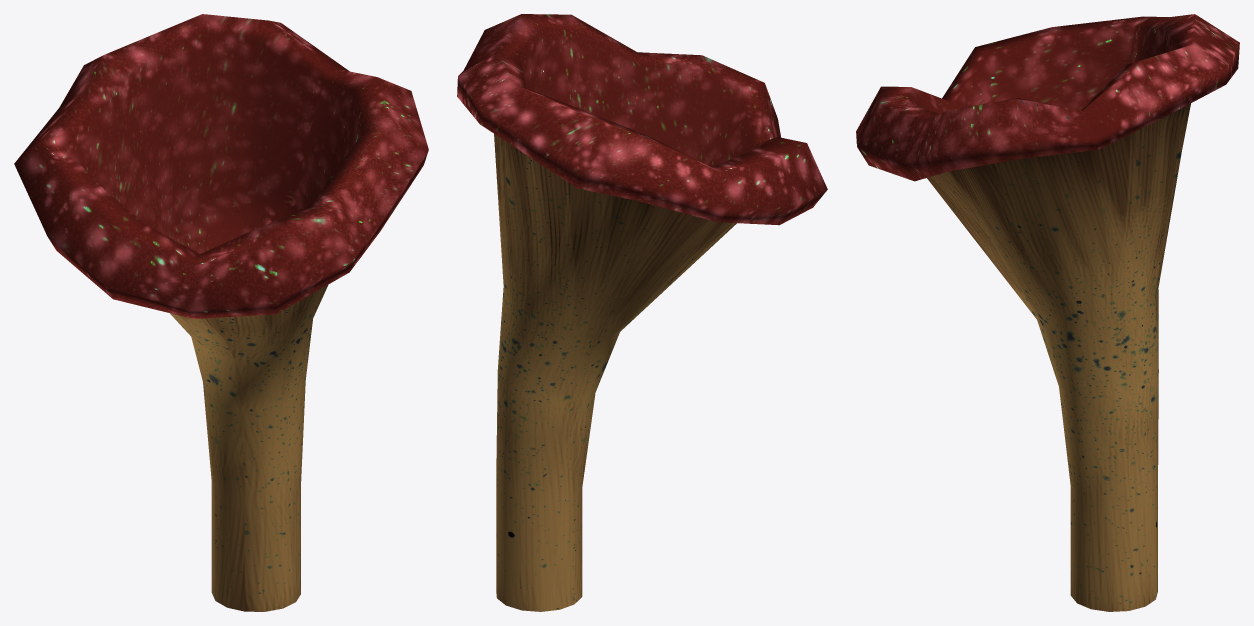
File: Mushroom_4.fbx
3 views of the same model, side by side, from view 1: azimuth 30°, elevation 25°; view 2: azimuth 150°, elevation 25°; view 3: azimuth 270°, elevation 25° (orthographic). The views are drawn at different scales.
Parts seen in each view (by area): view 1: Mushroom_4; view 2: Mushroom_4; view 3: Mushroom_4.
Boxes of the visible parts, x1=… form: Mushroom_4: x1=14, y1=14, x2=428, y2=611; Mushroom_4: x1=457, y1=14, x2=827, y2=611; Mushroom_4: x1=856, y1=14, x2=1239, y2=611.
Bounding box in the file's own units: 0.1621 × 0.2536 × 0.1615.
Materials: 1 (1 with a texture image).
